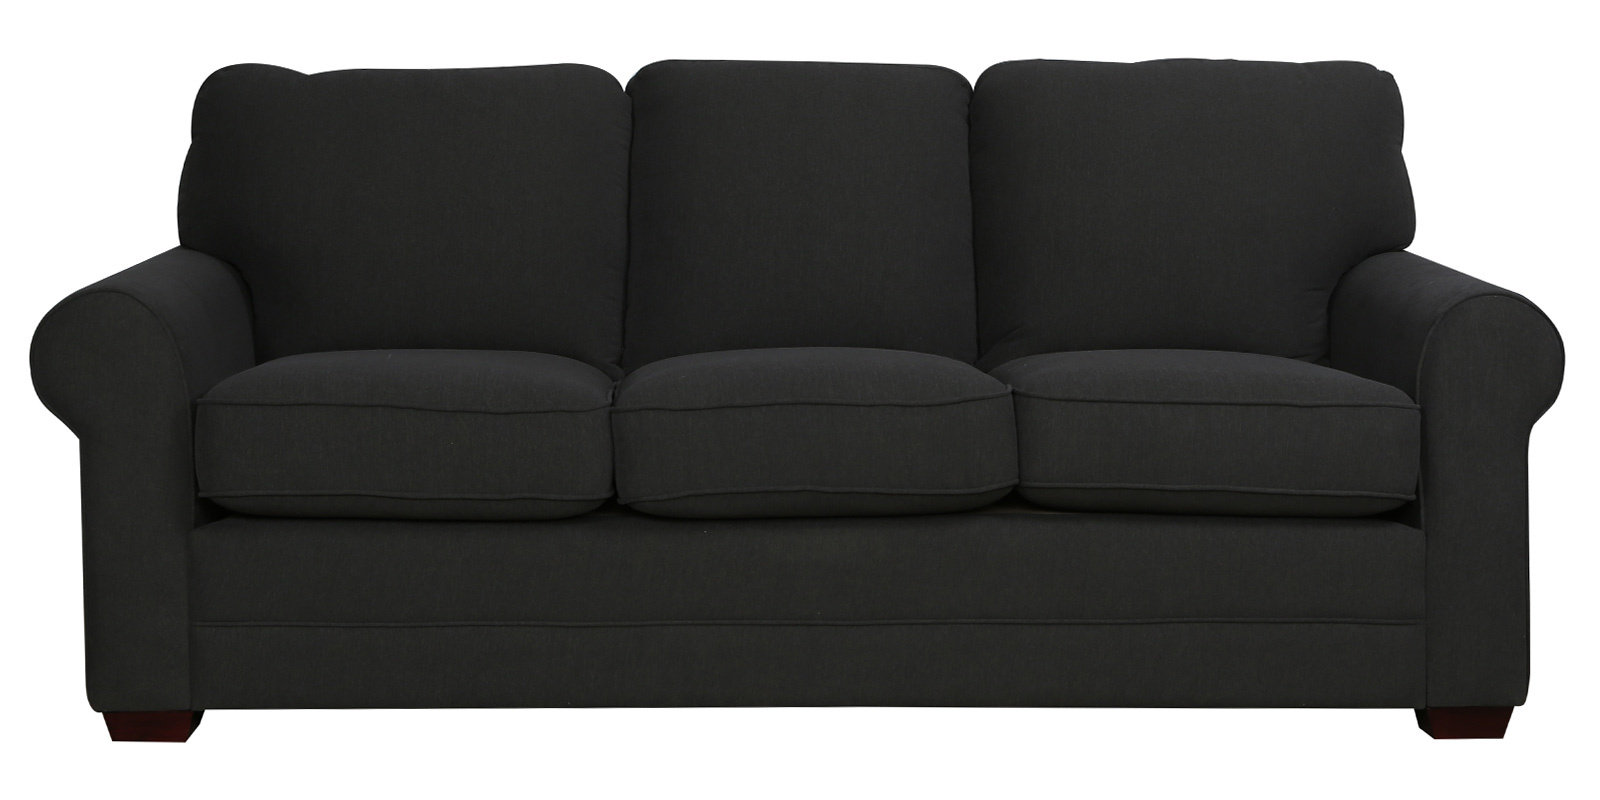Madeira Three Seater Sofa in Charcoal Grey Colour by CasaCraft: (28, 55, 1566, 741)
